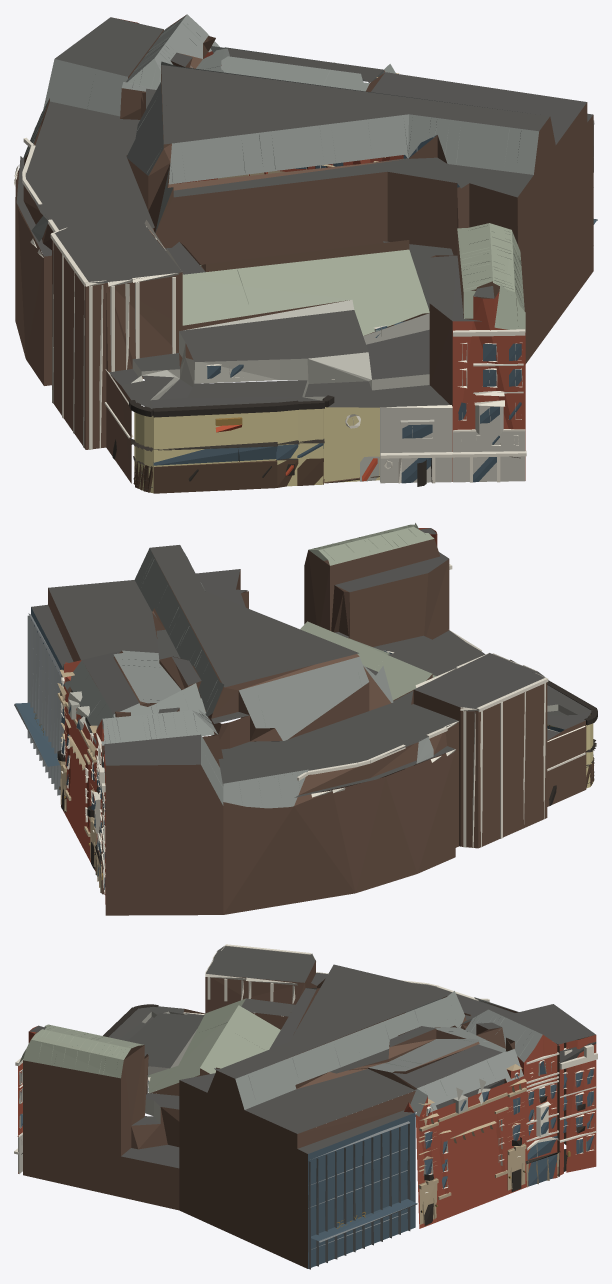
Rendered from delamar.lod1.glb.
The picture shows the model from 3 angles, top to bottom: view 1: azimuth 30°, elevation 25°; view 2: azimuth 150°, elevation 25°; view 3: azimuth 270°, elevation 25°; orthographic projection. The views are drawn at different scales.
Parts seen in each view (by area): view 1: delamar; view 2: delamar; view 3: delamar.
Boxes of the visible parts, left/top/right/bottom form: delamar: left=14, top=14, right=597, bottom=493; delamar: left=14, top=523, right=597, bottom=915; delamar: left=14, top=944, right=597, bottom=1269.
Size of the model in its own units: 64.14 by 22.95 by 76.09.
